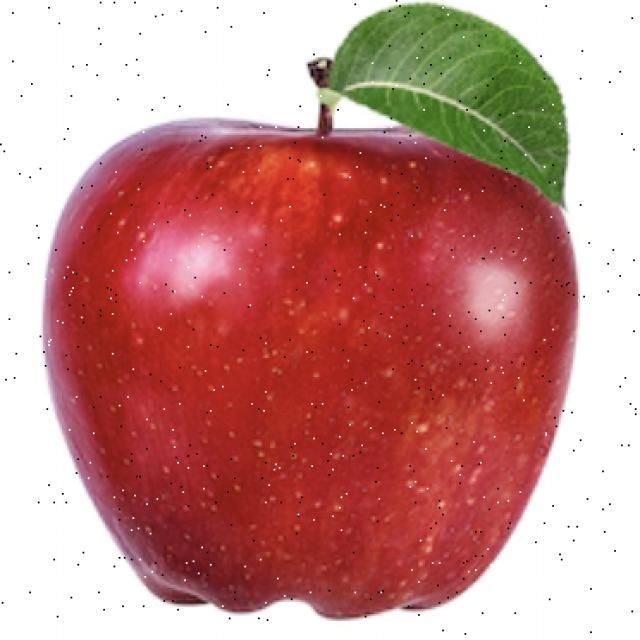Fresh Apple: (56, 107, 566, 600)
